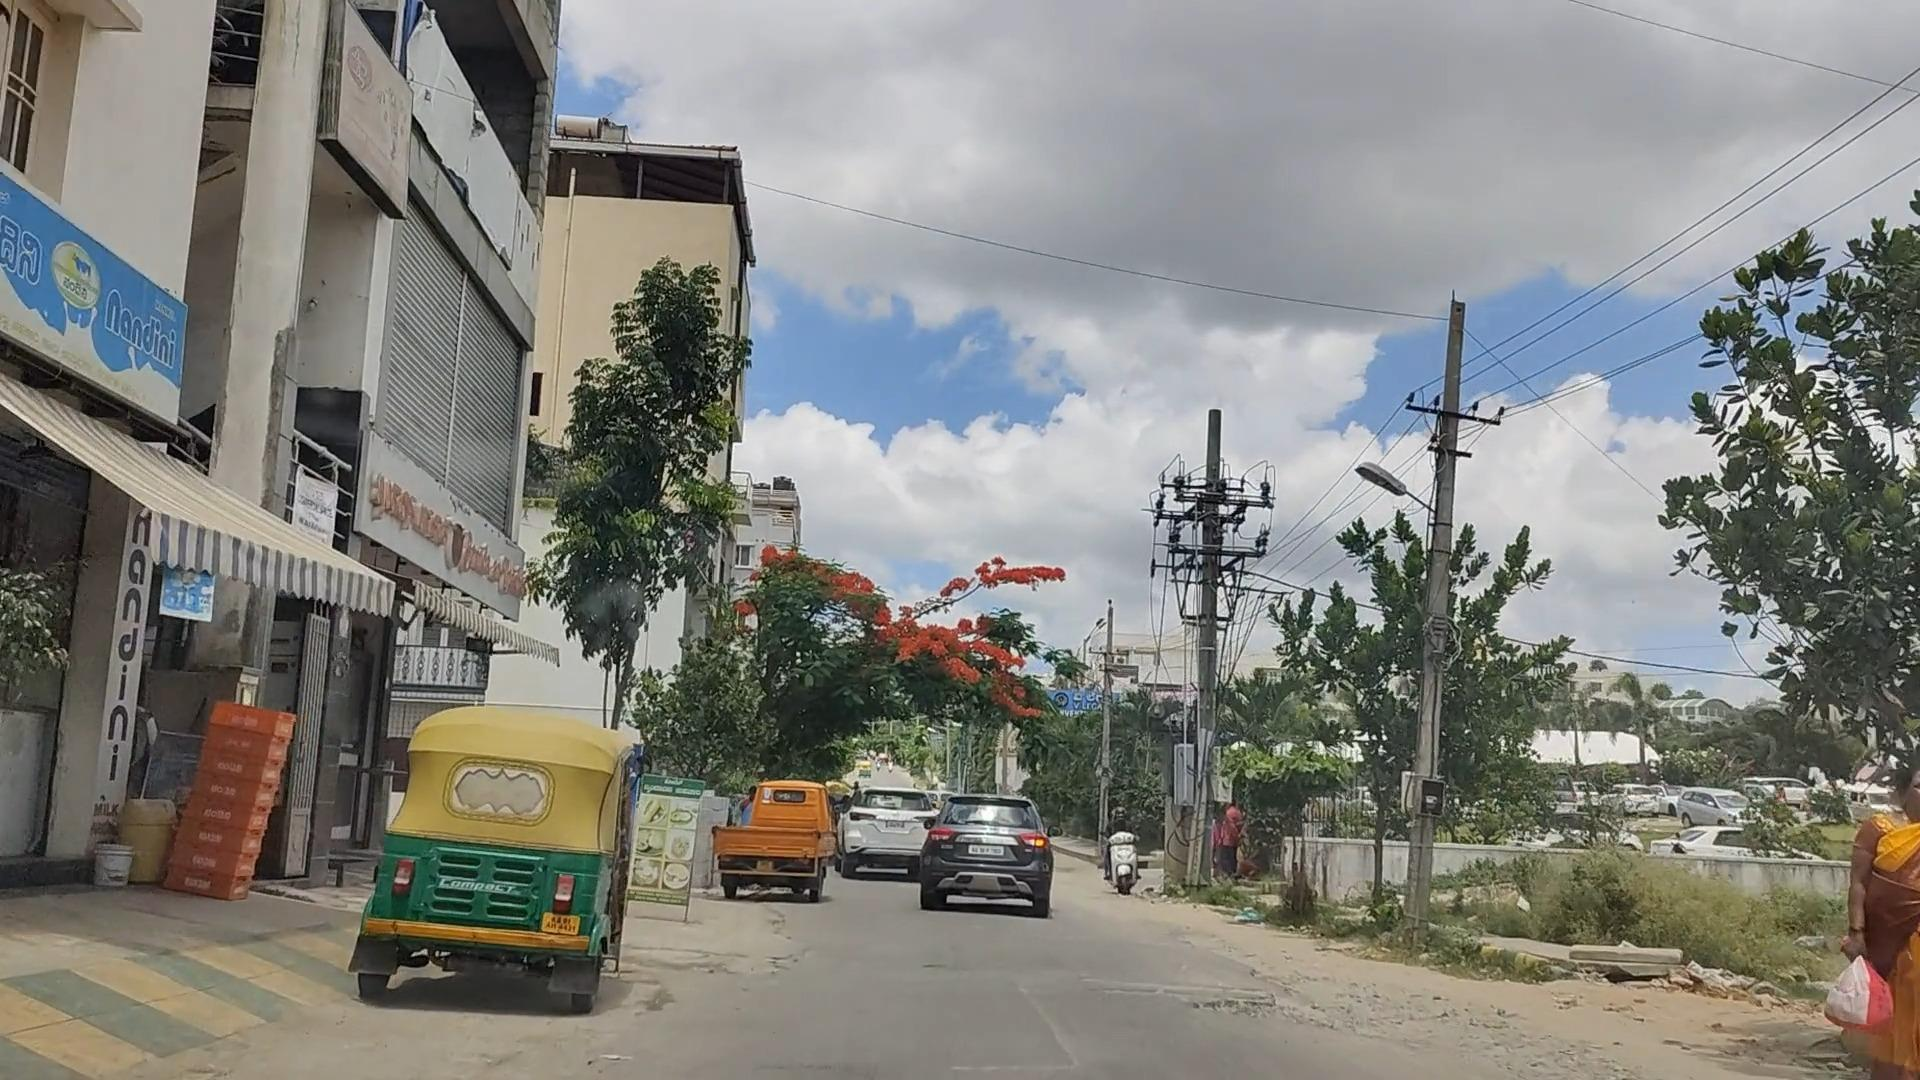RoadDamages: (1087, 914, 1353, 1033), (699, 910, 866, 1002), (1319, 998, 1494, 1080)
